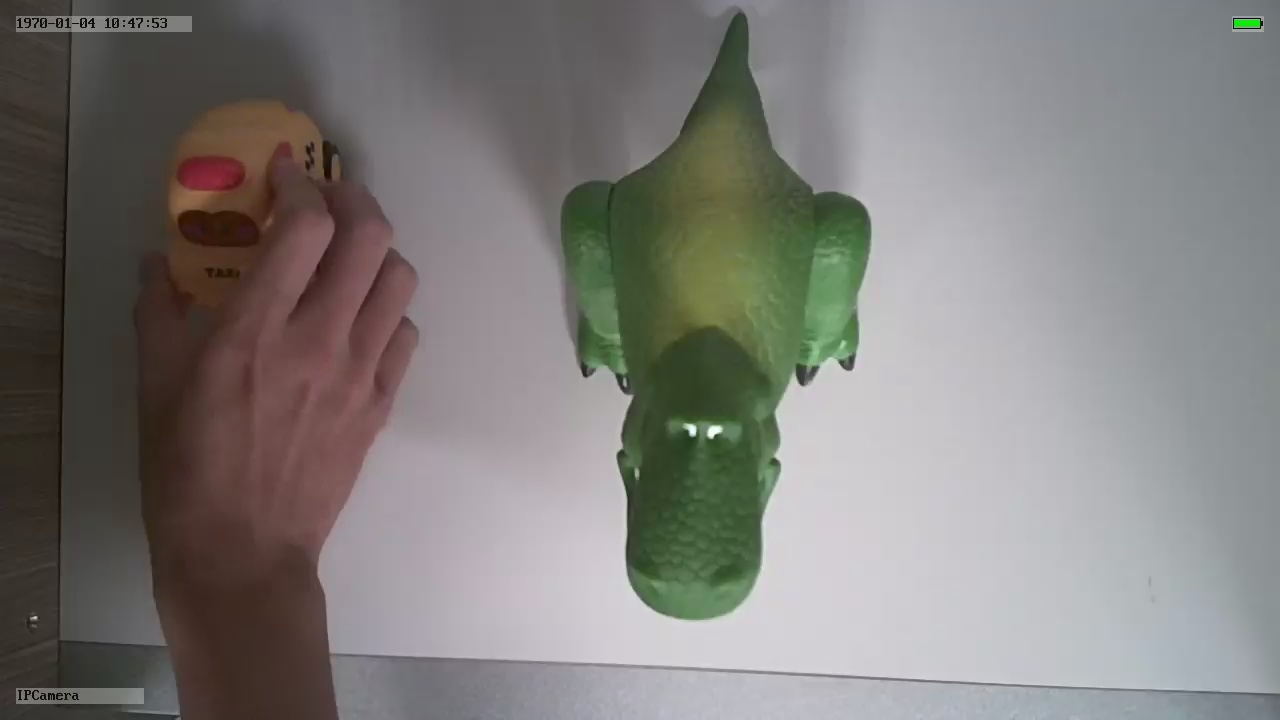rex: (558, 87, 877, 624)
